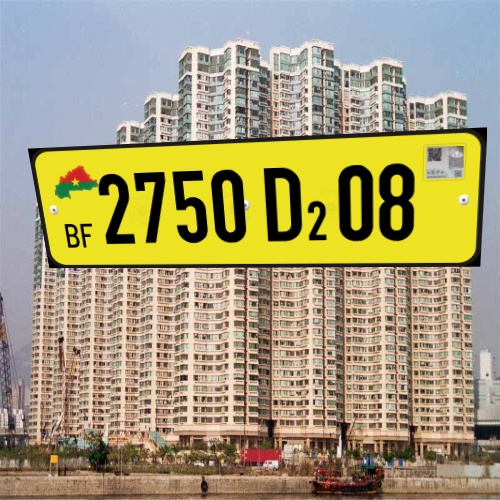plate: (20, 118, 500, 305)
